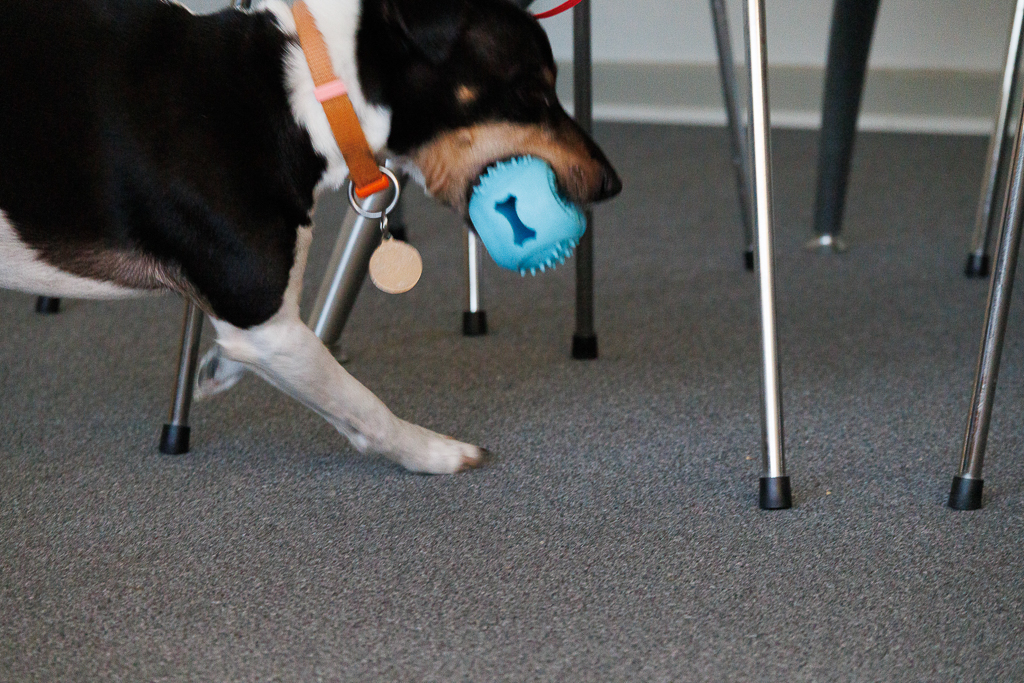Dog: (0, 0, 635, 480)
